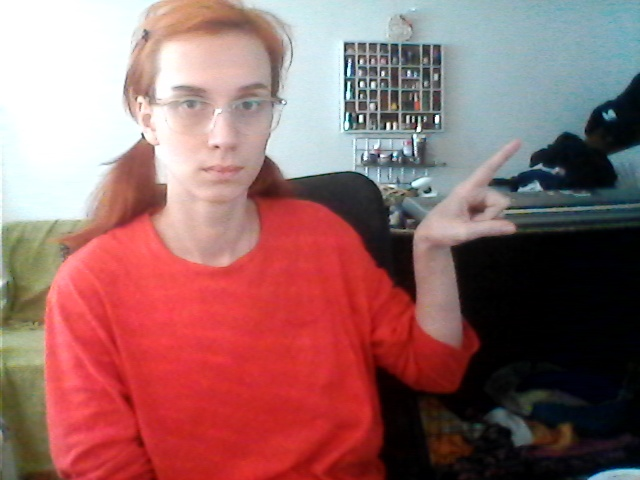on: (396, 136, 534, 395)
